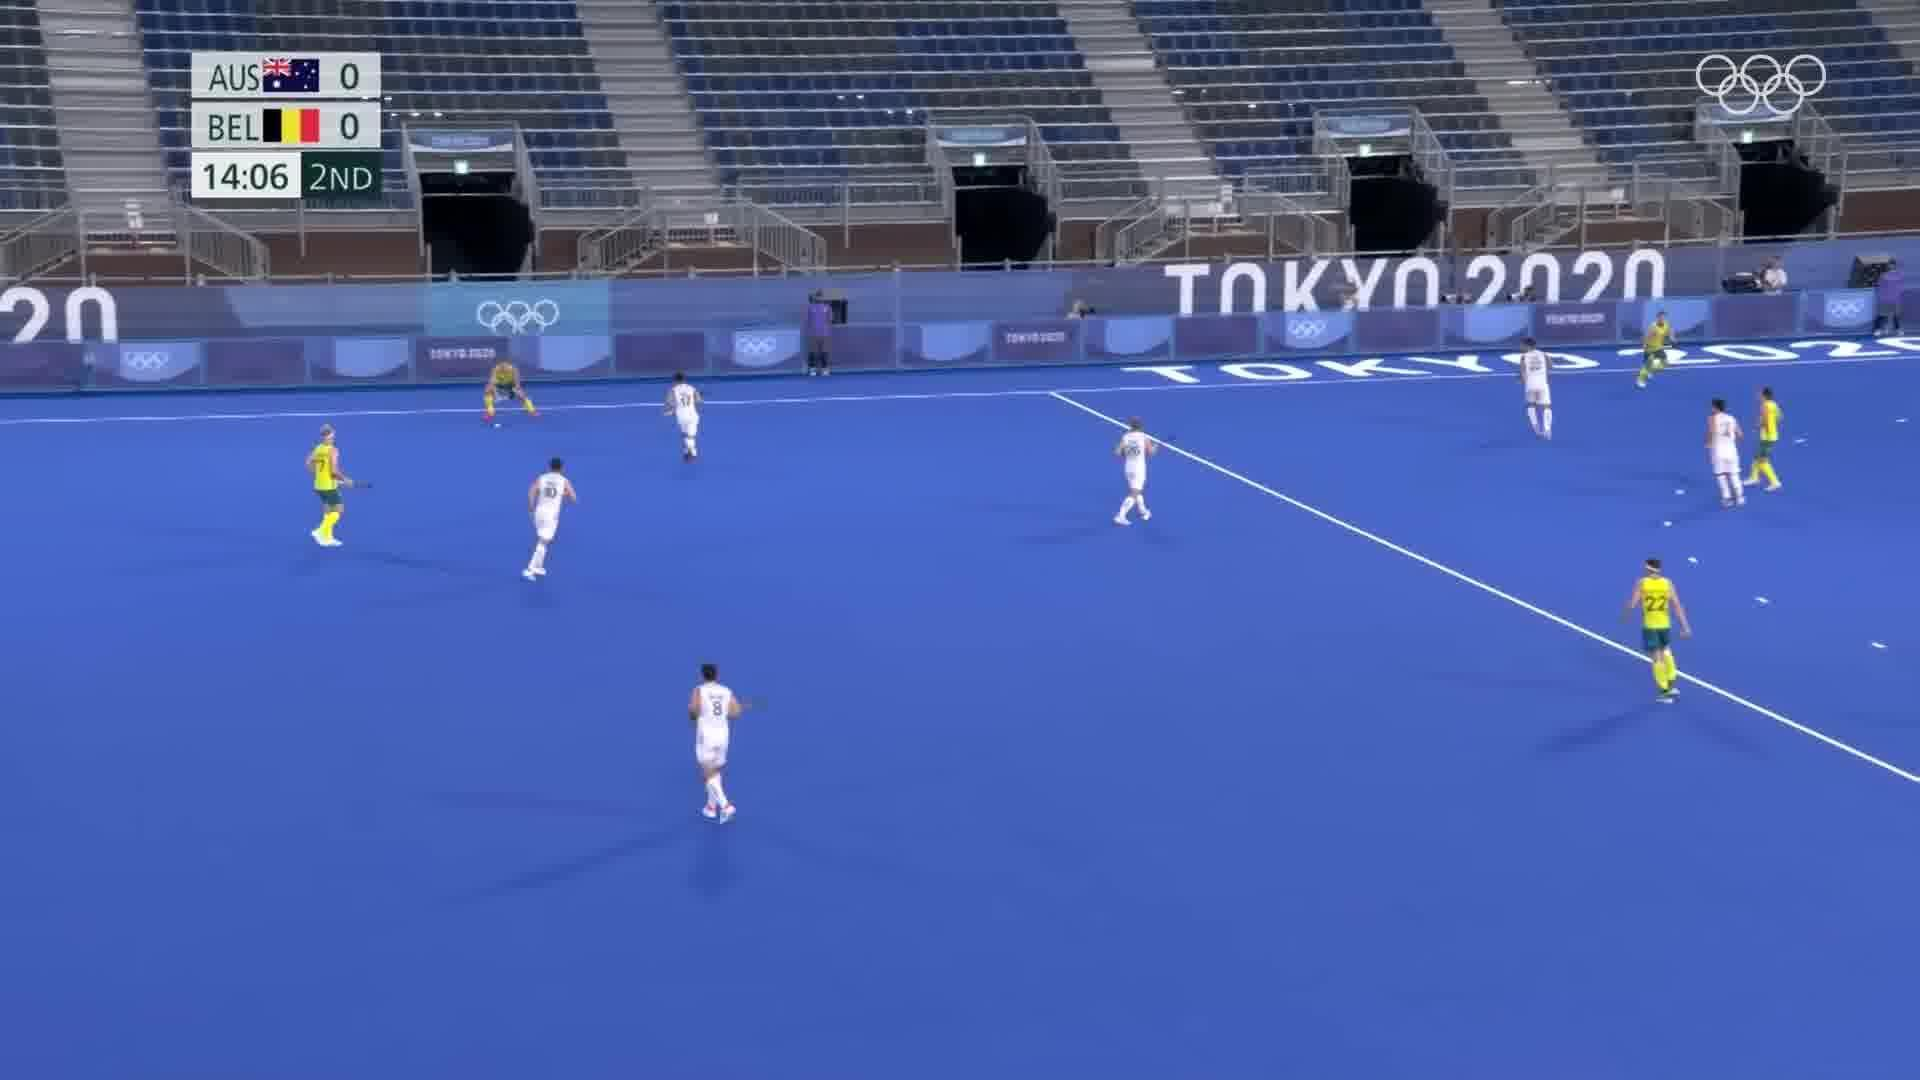ball: (491, 419, 506, 431)
